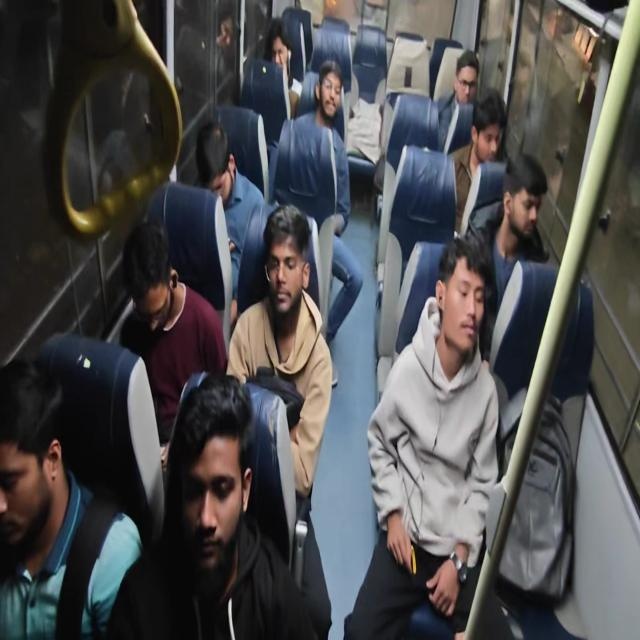person: (173, 398, 263, 640), (0, 395, 75, 581), (438, 242, 491, 362), (250, 230, 306, 320), (123, 208, 167, 308), (502, 159, 549, 249), (464, 91, 512, 171), (194, 140, 230, 209), (454, 44, 478, 104), (265, 31, 289, 82), (321, 62, 340, 109)
